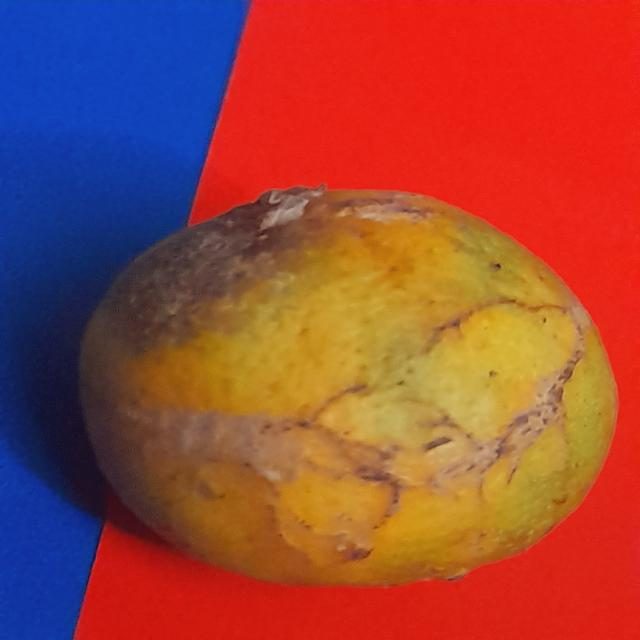thrips: (62, 194, 633, 596)
